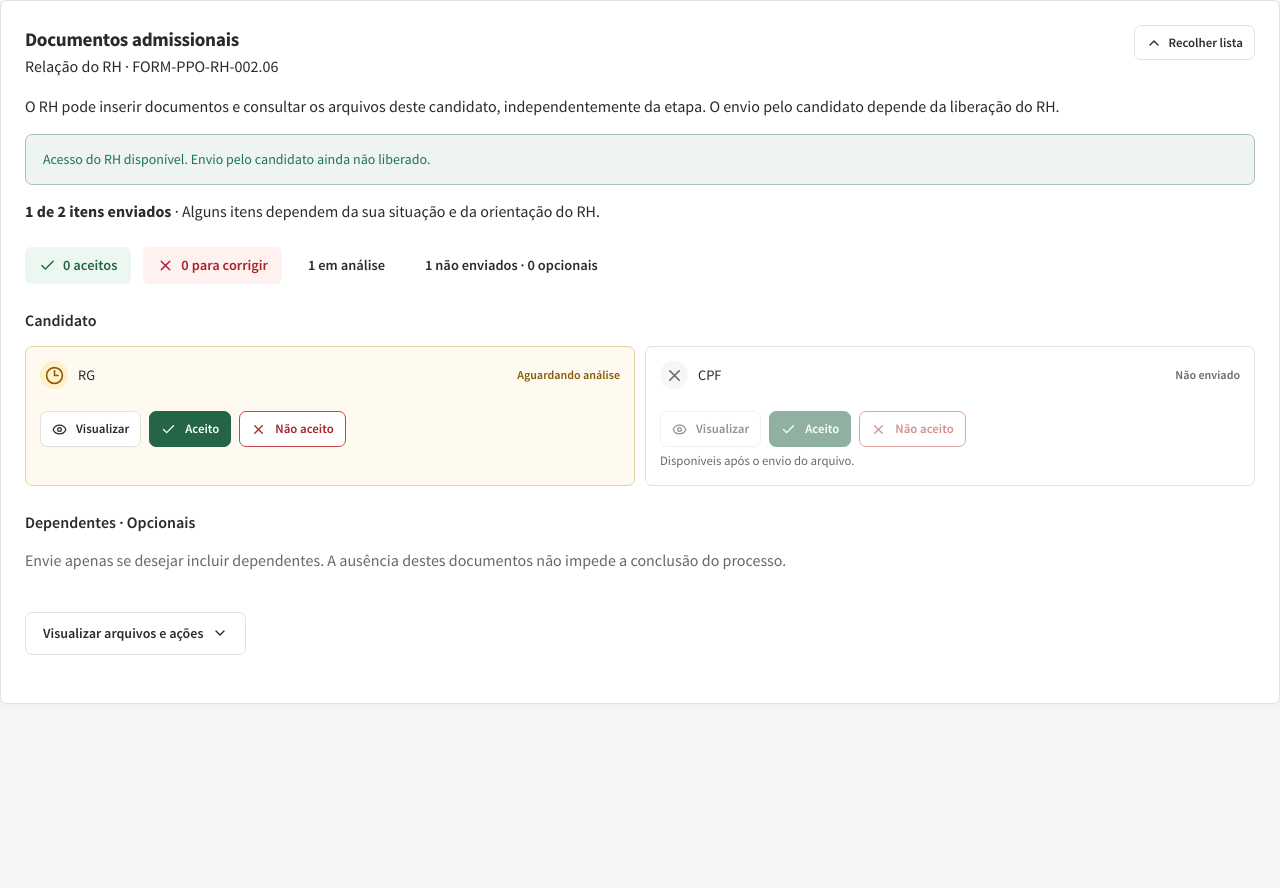
Test: distingue documentos em análise dos não enviados
Expected: the button with aria-label "Aceito: CPF" is disabled, [769, 411, 851, 447]
Expected: the button with aria-label "Não aceito: CPF" is disabled, [859, 411, 966, 447]
What coordinates should you click on to do the following:
click the button "Visualizar arquivos e ações"
I would click on:
 (136, 633)
Its box is [25, 612, 246, 655].
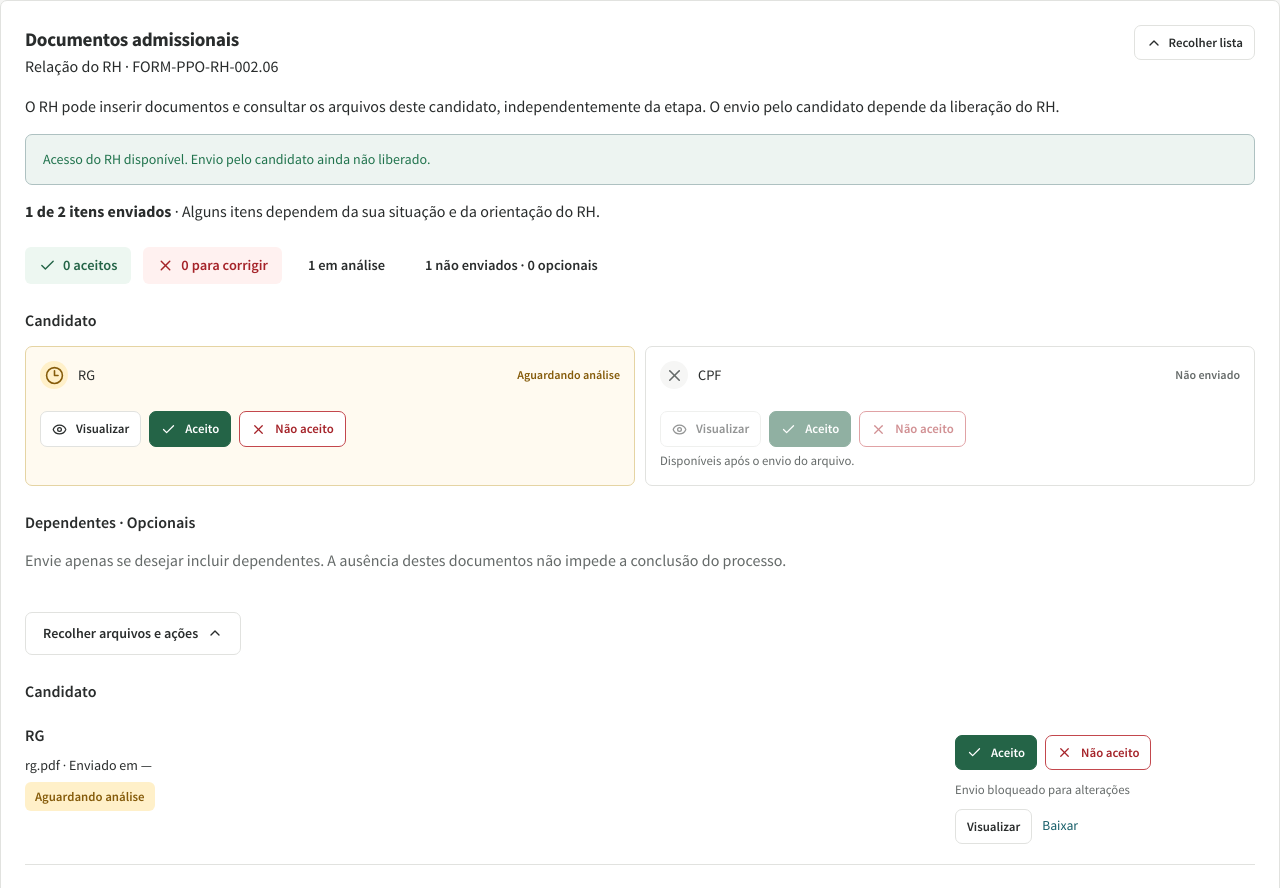
Result: the button "Baixar" is shown at [1042, 811, 1078, 842]
